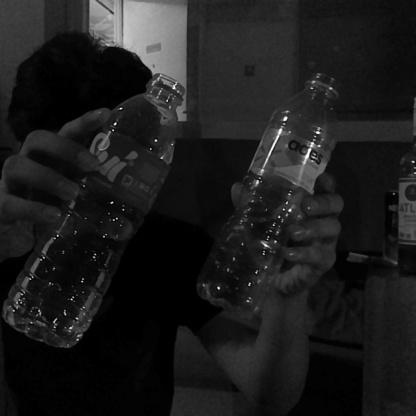plastic_bottles: (10, 72, 188, 336), (199, 64, 343, 322)
